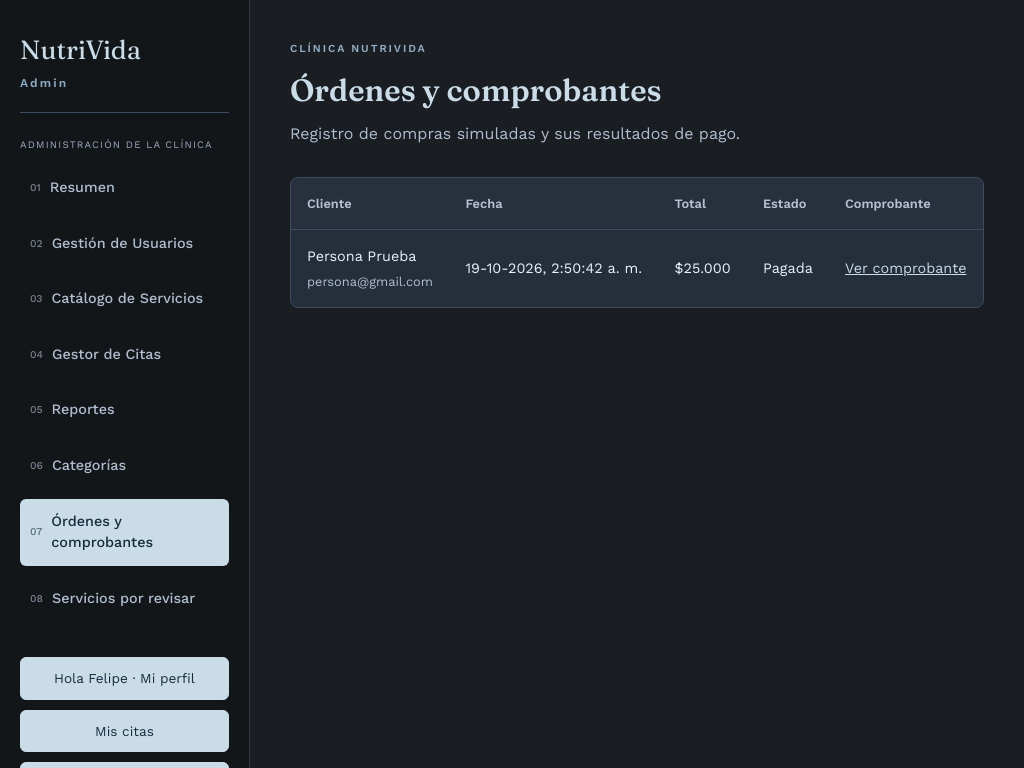
Test case: Compras simuladas y comprobantes › muestra las órdenes y su total en el panel de administración
expect the text "Persona Prueba" is shown: met, box 307,248 -> 416,264
Click the link "05 Reportes" at (72, 409), box 30,401 -> 115,417
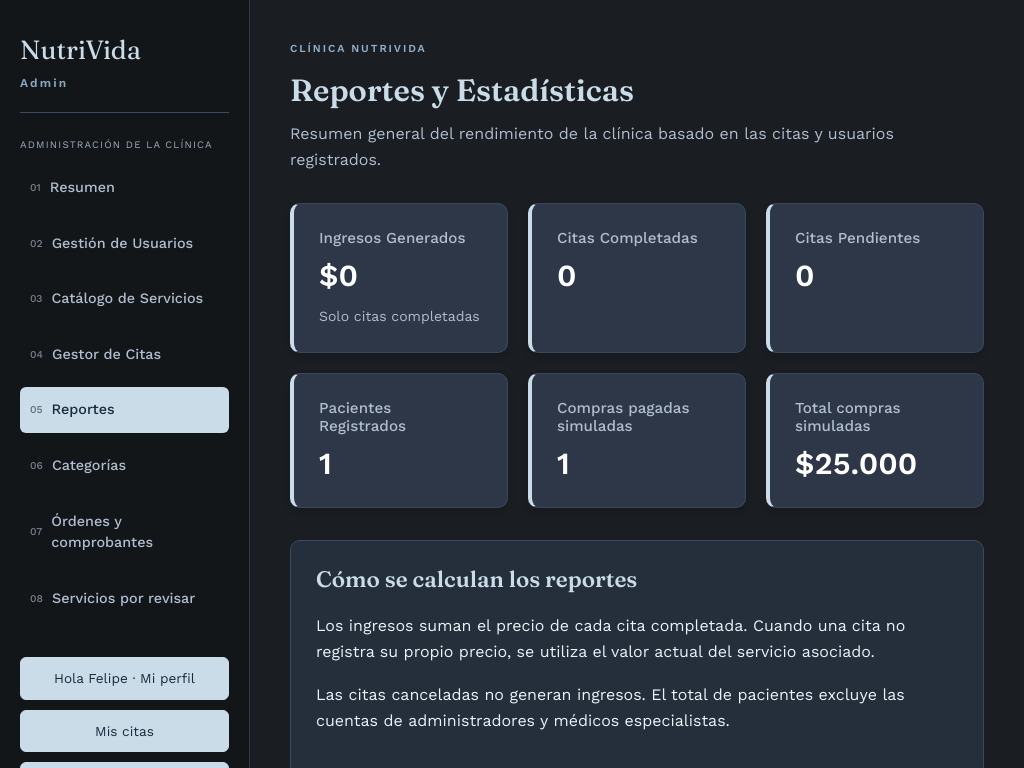
expect the element "Total compras simuladas" shows "$25.000": met, box 795,445 -> 917,481
